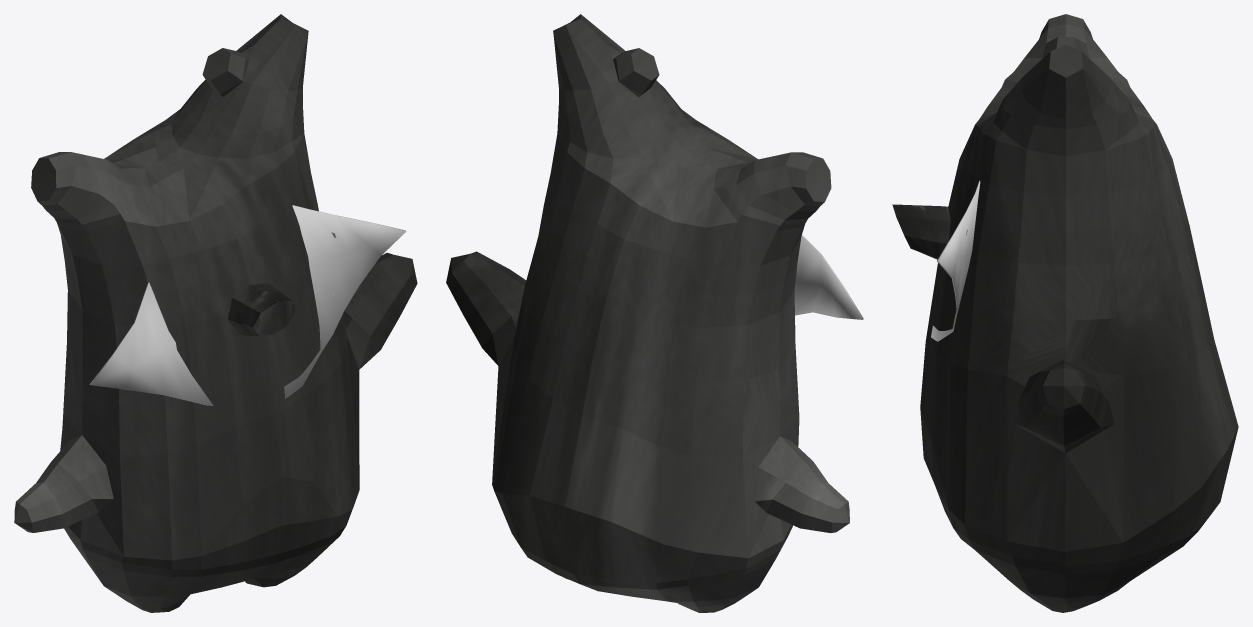
Rendered from frame_0006.obj.
The picture shows the model from 3 angles, left to right: view 1: azimuth 30°, elevation 25°; view 2: azimuth 150°, elevation 25°; view 3: azimuth 270°, elevation 25°; orthographic projection. The views are drawn at different scales.
Parts seen in each view (by area): view 1: korok, leaf, nose; view 2: korok, leaf; view 3: korok, nose, leaf.
Part boxes in pixels (<box>): korok: <box>14,14,417,612</box>; leaf: <box>89,205,406,405</box>; nose: <box>228,283,295,335</box>; korok: <box>446,14,849,612</box>; leaf: <box>794,235,863,319</box>; korok: <box>920,14,1238,612</box>; nose: <box>892,204,950,259</box>; leaf: <box>931,180,980,341</box>.
Bounding box in the file's own units: 1.72 × 2.32 × 1.27.
